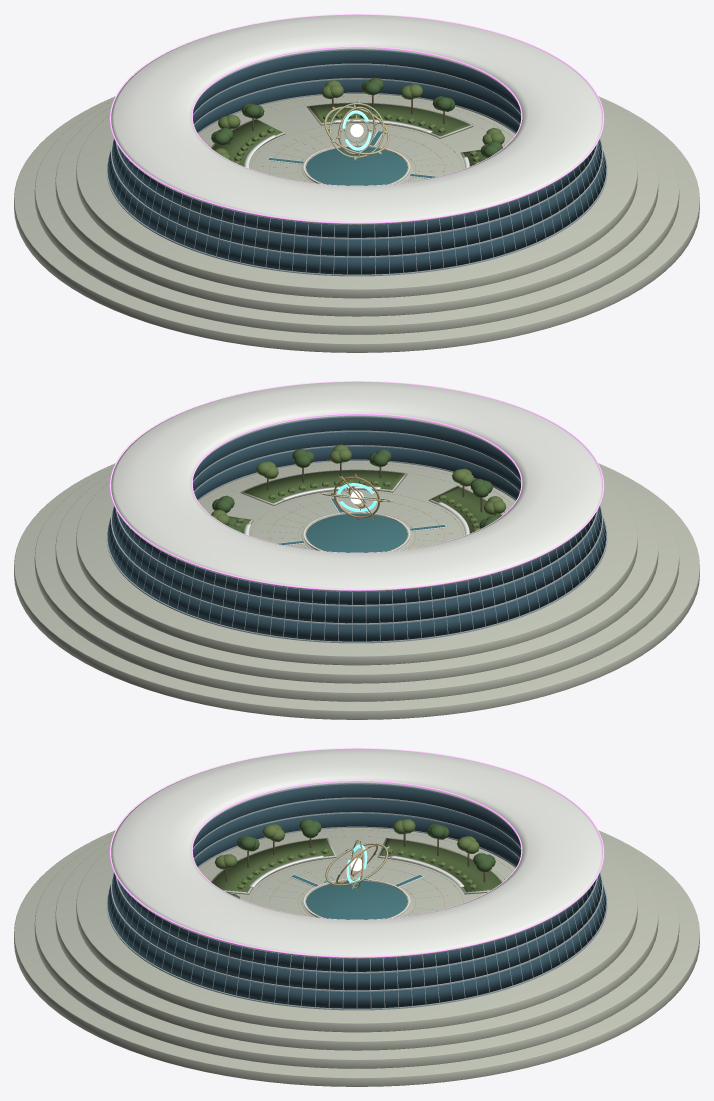
File: ring.glb
The picture shows the model from 3 angles, top to bottom: view 1: azimuth 30°, elevation 25°; view 2: azimuth 150°, elevation 25°; view 3: azimuth 270°, elevation 25°; orthographic projection.
Parts seen in each view (by area): view 1: ring / Ring limestone paving, ring / Ring porcelain crown, ring / Ring blue glazing, ring / Ring silver framing, ring / Ring reflecting water, ring / Ring violet edge, ring / Ring meadow, ring / Ring canopy 1, ring / Ring canopy 0, ring / Ring champagne bronze; view 2: ring / Ring limestone paving, ring / Ring porcelain crown, ring / Ring blue glazing, ring / Ring silver framing, ring / Ring reflecting water, ring / Ring meadow, ring / Ring violet edge, ring / Ring canopy 1, ring / Ring canopy 0, ring / Ring champagne bronze; view 3: ring / Ring limestone paving, ring / Ring porcelain crown, ring / Ring blue glazing, ring / Ring silver framing, ring / Ring meadow, ring / Ring reflecting water, ring / Ring violet edge, ring / Ring canopy 1, ring / Ring canopy 0, ring / Ring champagne bronze.
Part boxes in pixels (x1,y1,x2,y2): ring / Ring limestone paving: [14, 94, 699, 352]; ring / Ring porcelain crown: [111, 14, 602, 224]; ring / Ring blue glazing: [107, 50, 606, 274]; ring / Ring silver framing: [106, 48, 607, 276]; ring / Ring reflecting water: [268, 131, 436, 185]; ring / Ring violet edge: [109, 14, 604, 223]; ring / Ring meadow: [212, 103, 487, 166]; ring / Ring canopy 1: [214, 80, 504, 164]; ring / Ring canopy 0: [211, 77, 502, 158]; ring / Ring champagne bronze: [201, 96, 512, 184]; ring / Ring limestone paving: [14, 461, 699, 719]; ring / Ring porcelain crown: [111, 381, 602, 591]; ring / Ring blue glazing: [107, 417, 606, 641]; ring / Ring silver framing: [106, 415, 607, 643]; ring / Ring reflecting water: [277, 498, 445, 552]; ring / Ring meadow: [229, 470, 501, 533]; ring / Ring violet edge: [109, 381, 604, 590]; ring / Ring canopy 1: [211, 444, 506, 531]; ring / Ring canopy 0: [212, 448, 498, 533]; ring / Ring champagne bronze: [201, 463, 512, 551]; ring / Ring limestone paving: [14, 828, 699, 1086]; ring / Ring porcelain crown: [111, 748, 602, 958]; ring / Ring blue glazing: [107, 784, 606, 1008]; ring / Ring silver framing: [106, 782, 607, 1010]; ring / Ring meadow: [212, 838, 501, 892]; ring / Ring reflecting water: [291, 875, 422, 919]; ring / Ring violet edge: [109, 748, 604, 957]; ring / Ring canopy 1: [214, 819, 479, 889]; ring / Ring canopy 0: [227, 819, 495, 898]; ring / Ring champagne bronze: [201, 830, 512, 918].
Size of the model in its own units: 132 by 21.87 by 132.
